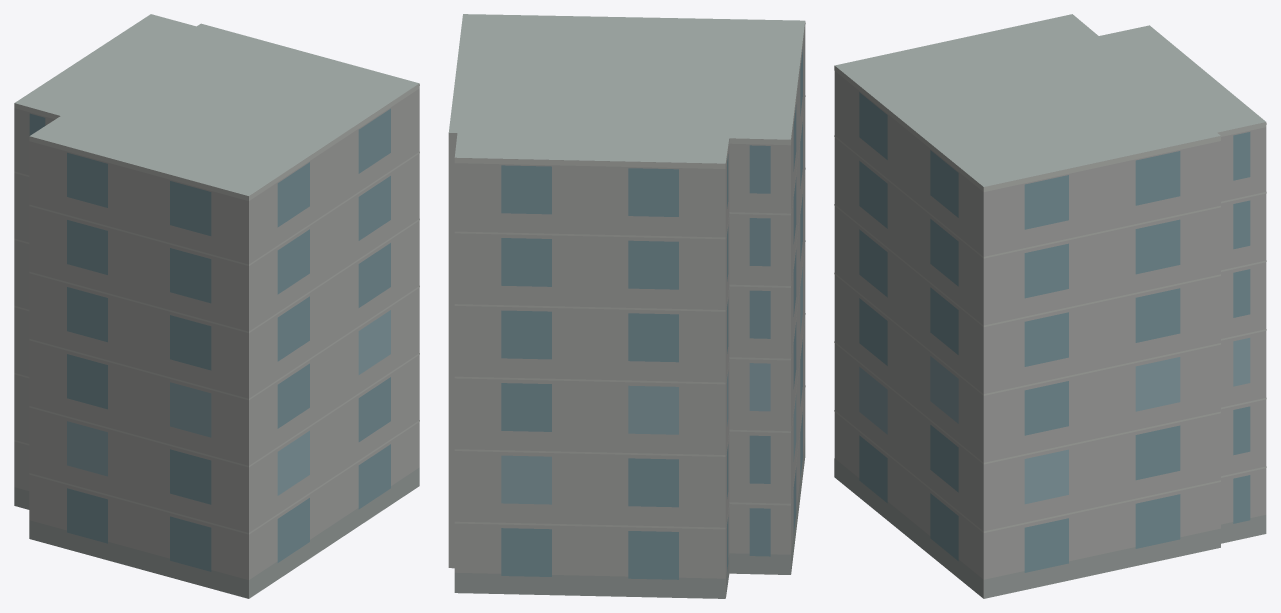
File: survey-upis-33030467.glb
3 views of the same model, side by side, from view 1: azimuth 30°, elevation 25°; view 2: azimuth 150°, elevation 25°; view 3: azimuth 270°, elevation 25° (orthographic). The views are drawn at different scales.
Visible parts, largest first — view 1: survey-upis-33030467.tmp; view 2: survey-upis-33030467.tmp; view 3: survey-upis-33030467.tmp.
Boxes of the visible parts, box(x1,y1,x2,y2) form: survey-upis-33030467.tmp: box(14, 14, 419, 598); survey-upis-33030467.tmp: box(448, 14, 805, 598); survey-upis-33030467.tmp: box(834, 14, 1266, 598).
Bounding box in the file's own units: 17.6 × 19.5 × 18.56.
